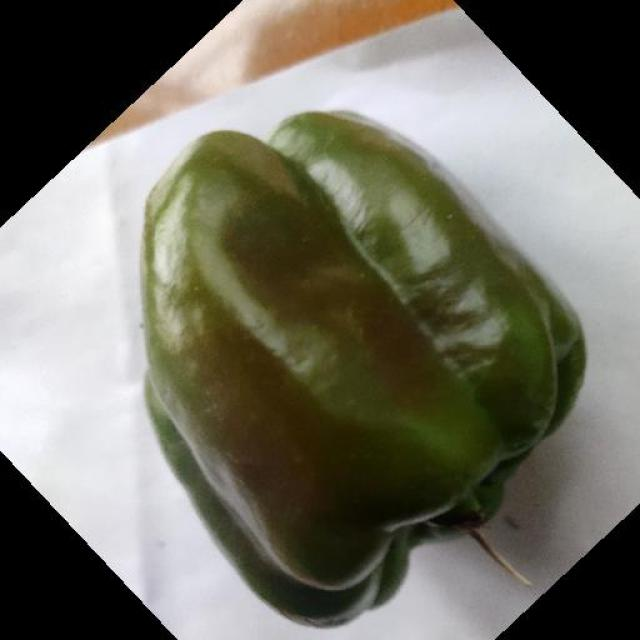Stale_Capsicum: (114, 163, 557, 640)
